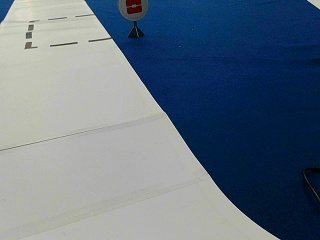company: (118, 0, 148, 20)
